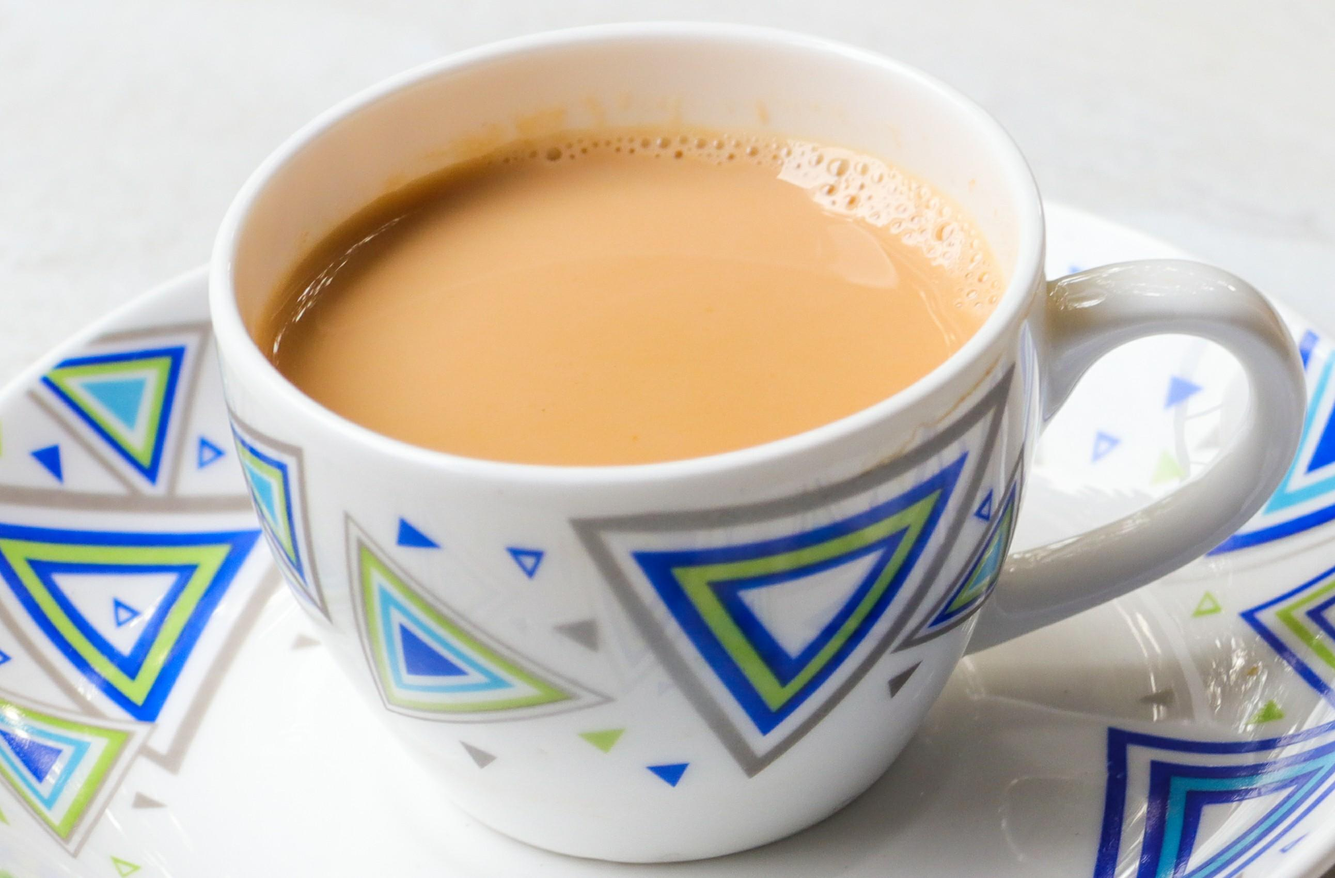Chai: (269, 122, 1008, 458)
